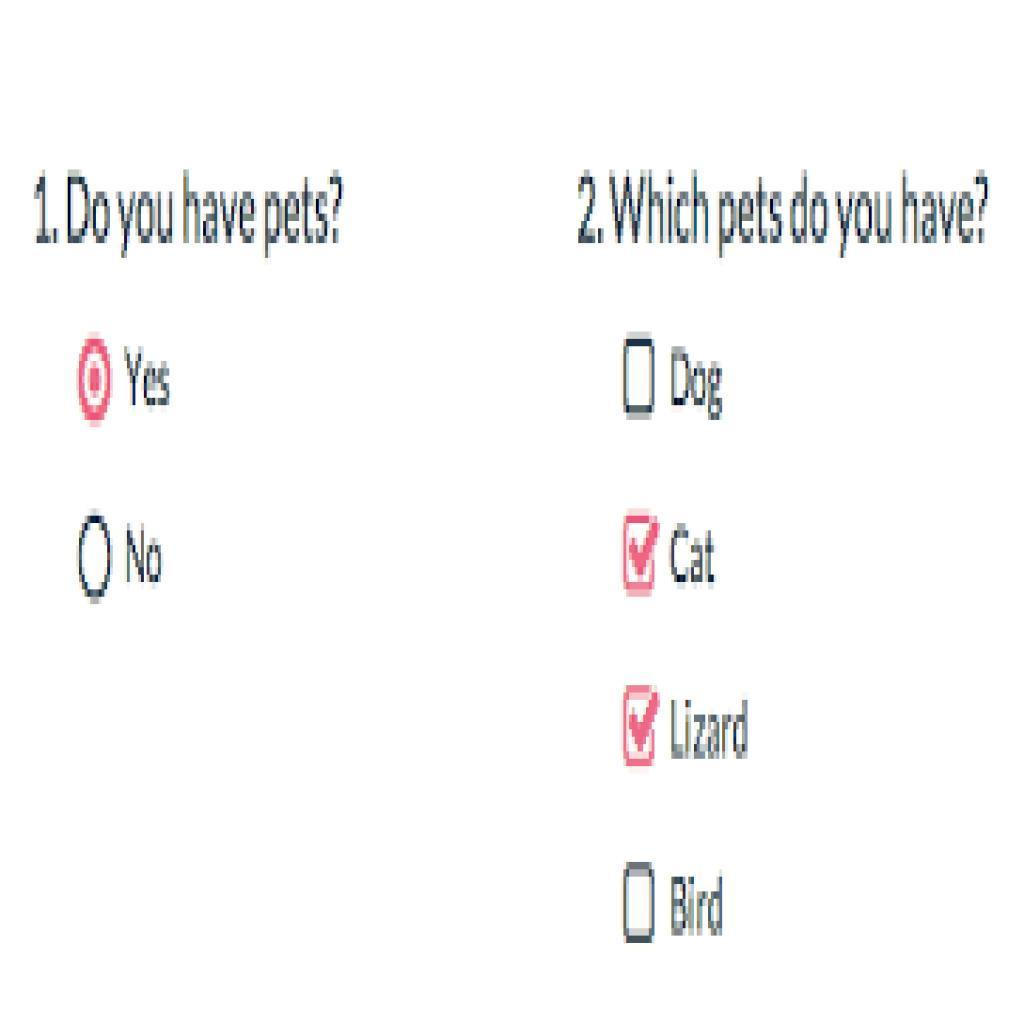checkbox: (622, 521, 663, 593), (621, 338, 658, 415), (622, 870, 657, 941), (623, 690, 659, 756)
radio: (74, 333, 120, 430), (74, 514, 114, 607)
